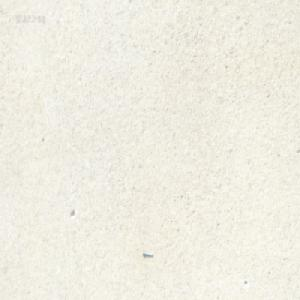Nail: (143, 249, 153, 257)
